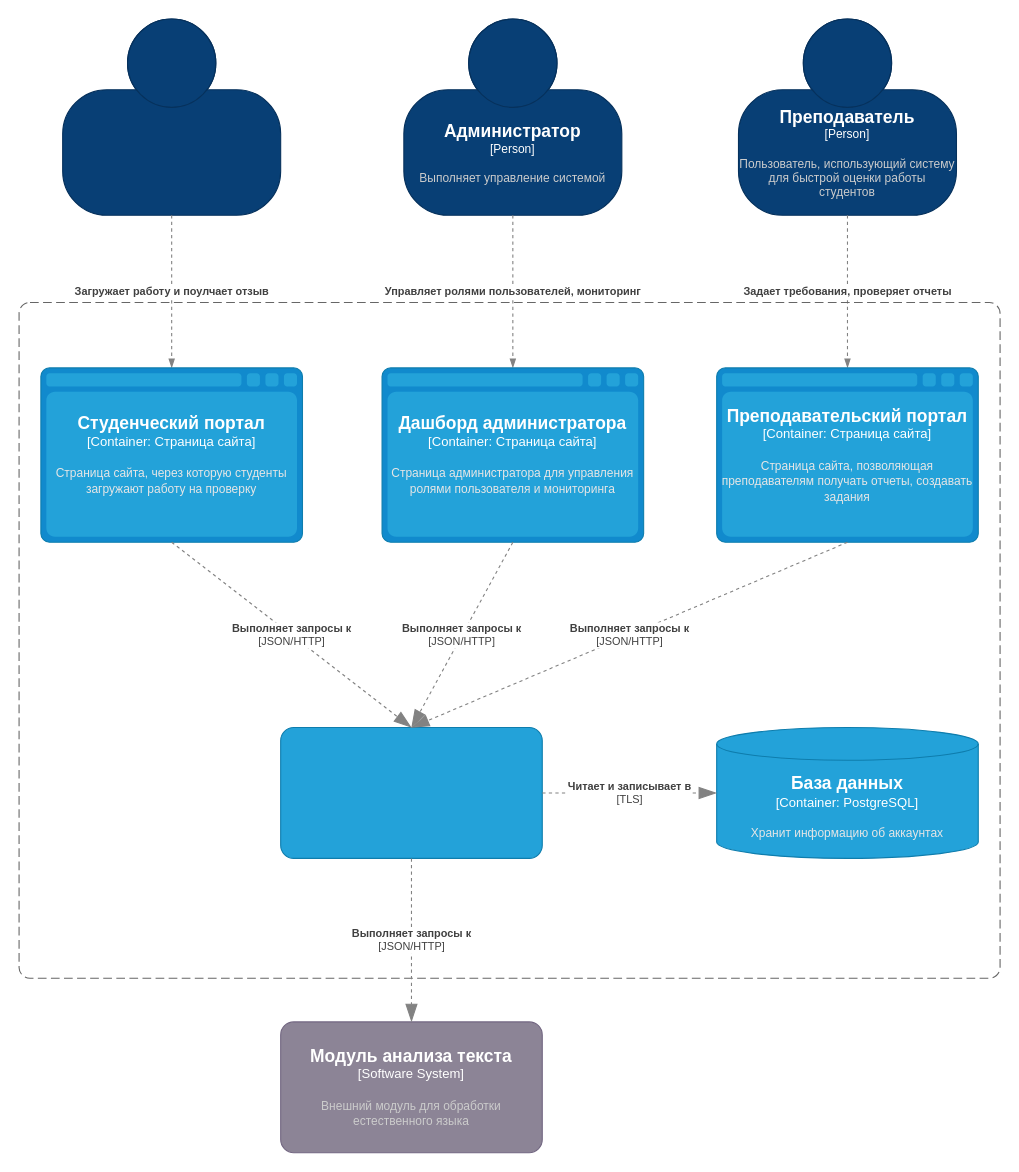
Some shapes in this 1019 by 1172 pixel diagram are drawn without their labels. The shapes that lost their labels are listed below. From the top down, each one's box as (x1, y1, x2, y2) in pixels, then its label:
(62, 18, 281, 215): Студент [Person] Пользователь, использующий систему для проверки работ
(18, 301, 1000, 978): Система анализа текста программ [Software System]
(280, 726, 542, 858): Бэкенд [Container: Python Fastapi] Обеспечивает работу сервиса через API
